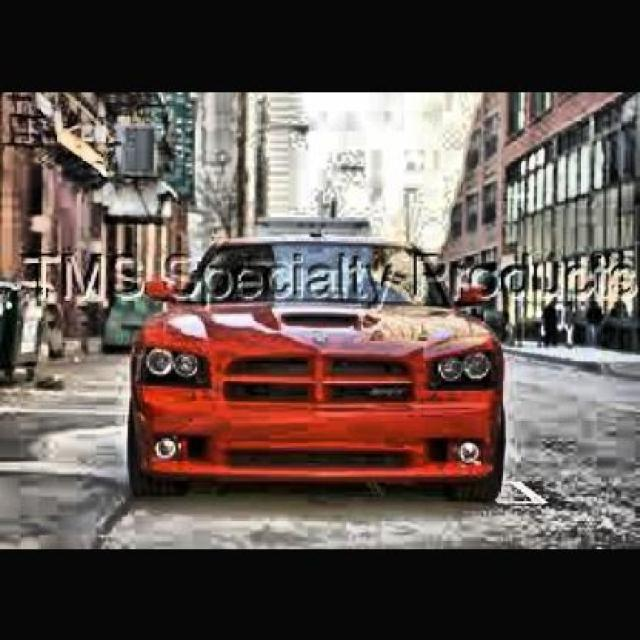maroon: (130, 222, 493, 497)
